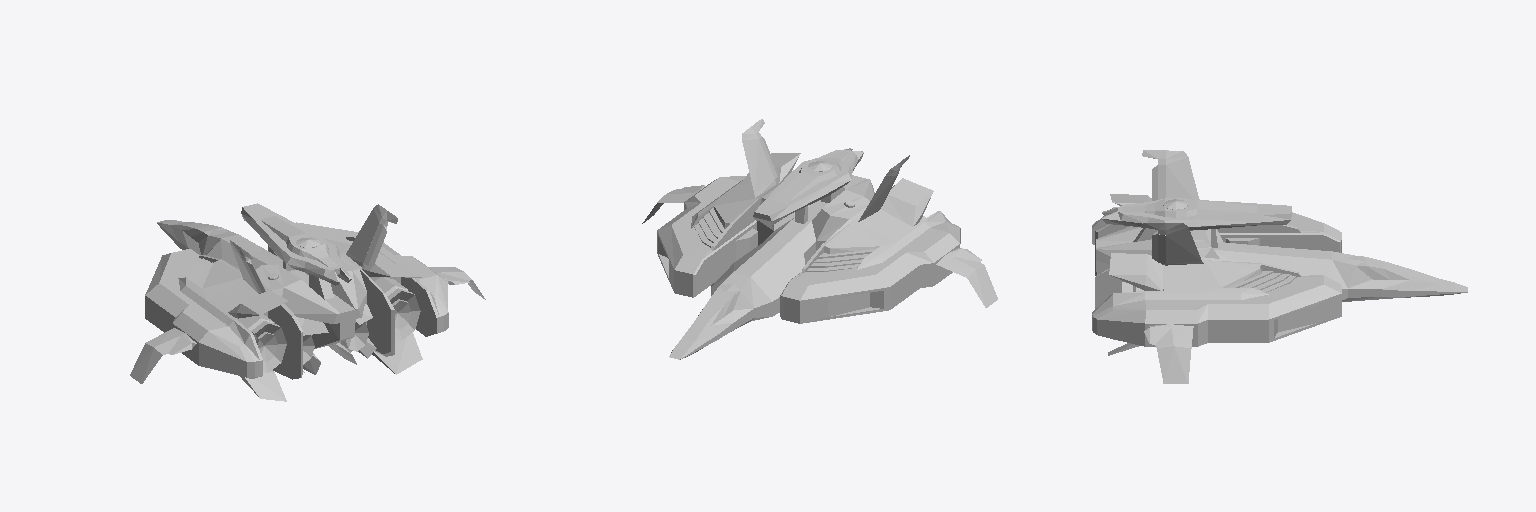
File: blueRacerColour.obj
3 renders of one model, left to right at view 1: azimuth 30°, elevation 25°; view 2: azimuth 150°, elevation 25°; view 3: azimuth 270°, elevation 25°, orthographic.
Visible parts, largest first — view 1: [number redacted]; view 2: [number redacted]; view 3: [number redacted].
Part boxes in pixels (x1,y1,x2,y2): [number redacted]: (130, 203, 485, 401); [number redacted]: (642, 119, 997, 359); [number redacted]: (1092, 150, 1467, 383).
Size of the model in its own units: 2.65 by 1.02 by 2.51.